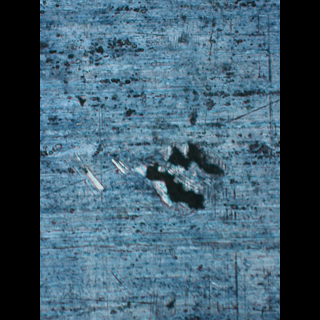d: (101, 134, 223, 215)
